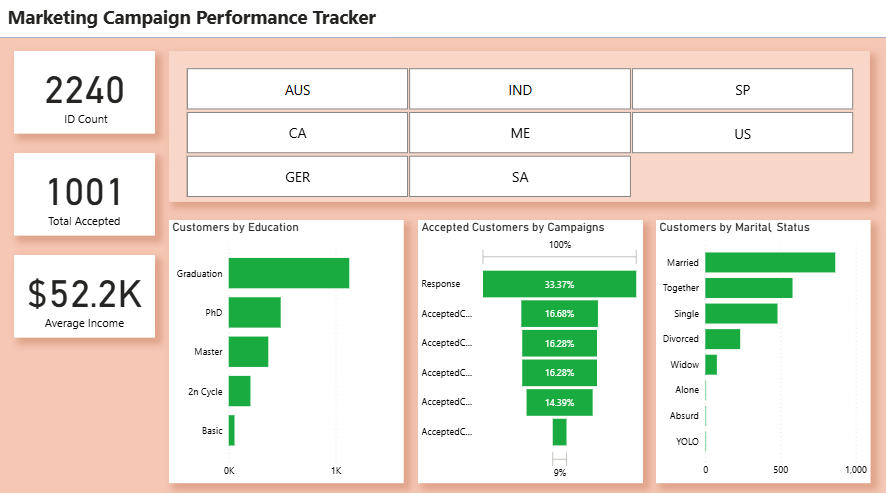

What the dashboard file says about the page in this screenshot:
{"tool":"powerbi","page":{"name":"Page 1","canvas":[1280,720],"ordinal":0},"visuals":[{"type":"shape","box":[0,0,1280,61.4],"z":0},{"type":"textbox","box":[0,1.4,562.9,58.6],"z":1000},{"type":"card","fields":{"Values":["Count(marketing_data.ID)"]},"box":[22.9,80,202.9,118.6],"z":2000},{"type":"card","fields":{"Values":["Sum(marketing_data.Accepted)"]},"box":[22.9,227.1,202.9,118.6],"z":3000},{"type":"card","fields":{"Values":["Avg(marketing_data.Income)"]},"box":[22.9,374.3,202.9,118.6],"z":4000},{"type":"slicer","fields":{"Values":["marketing_data.Country"]},"box":[246.2,80.6,1009.4,217.4],"z":5000},{"type":"clusteredBarChart","title":"Customers by Education","fields":{"Category":["marketing_data.Education"],"Y":["Count(marketing_data.ID)"]},"box":[246,324,338,379],"z":6000},{"type":"funnel","title":"Accepted Customers by Campaigns","fields":{"Category":["marketing_data.Campaigns"],"Y":["Sum(marketing_data.Accepted)"]},"box":[604.3,324.3,324.3,378.6],"z":7000},{"type":"clusteredBarChart","title":"Customers by Marital_Status","fields":{"Category":["marketing_data.Marital_Status"],"Y":["Count(marketing_data.ID)"]},"box":[947.1,324.3,308.6,378.6],"z":8000}]}

Visuals, with their boxes in screenshot pixels (x1, y1, x2, y2), scaled from the page's 1280x720 canvas onto the 886x493 screenshot:
shape: (x1=0, y1=0, x2=885, y2=42)
textbox: (x1=0, y1=1, x2=390, y2=41)
card - Count(marketing_data.ID): (x1=16, y1=55, x2=156, y2=136)
card - Sum(marketing_data.Accepted): (x1=16, y1=156, x2=156, y2=237)
card - Avg(marketing_data.Income): (x1=16, y1=256, x2=156, y2=337)
slicer - marketing_data.Country: (x1=170, y1=55, x2=869, y2=204)
"Customers by Education" clusteredBarChart: (x1=170, y1=222, x2=404, y2=481)
"Accepted Customers by Campaigns" funnel: (x1=418, y1=222, x2=643, y2=481)
"Customers by Marital_Status" clusteredBarChart: (x1=656, y1=222, x2=869, y2=481)
